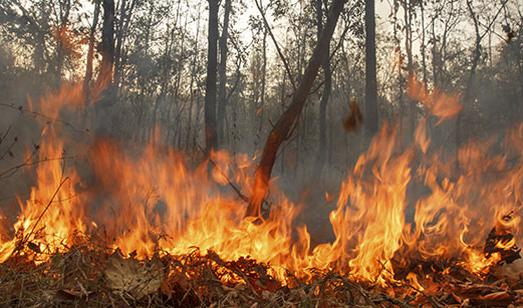fire: (8, 42, 318, 285), (325, 49, 520, 287)
